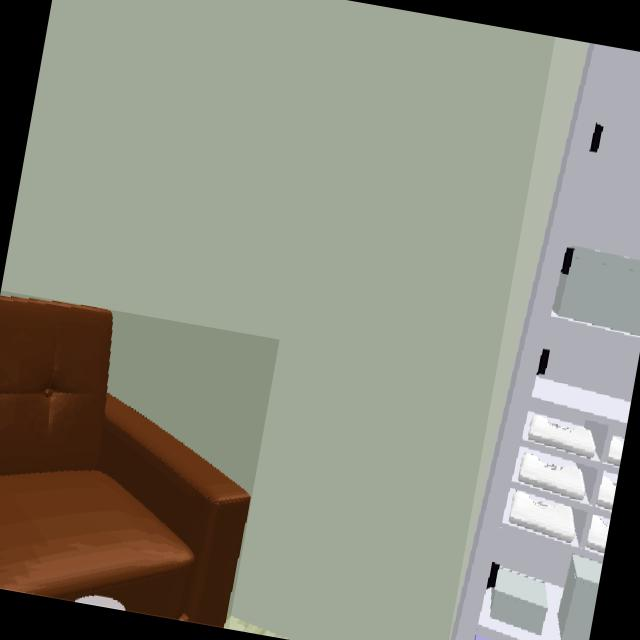sofa: (0, 297, 251, 627)
wardrobe: (451, 43, 640, 640)
